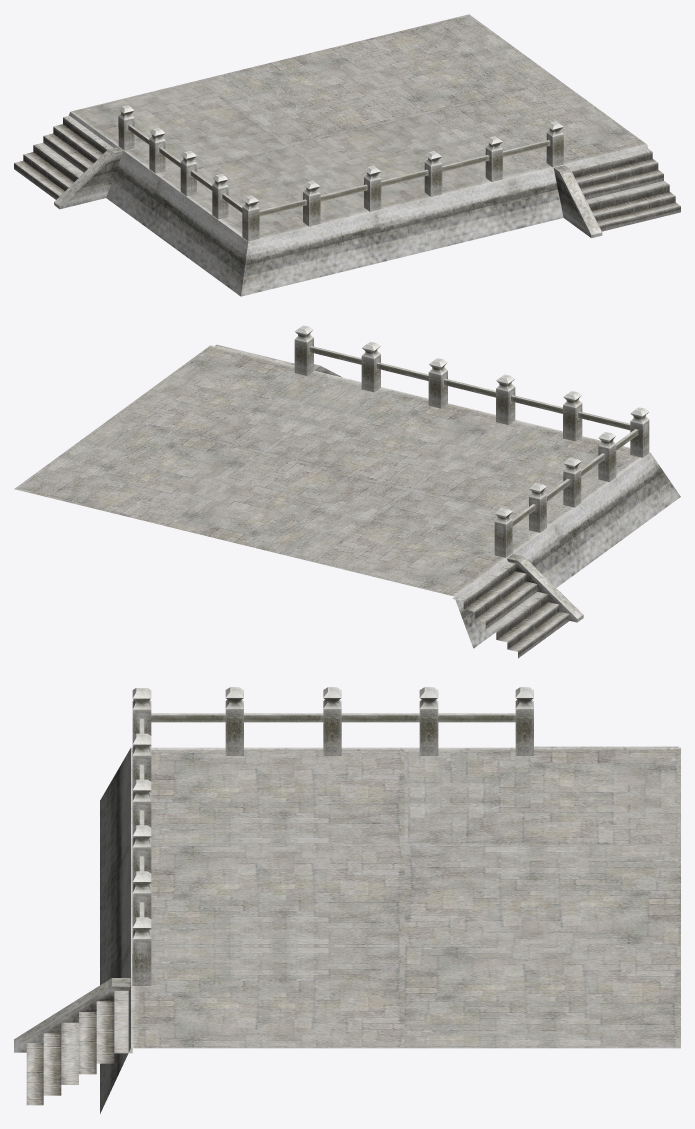
File: snow_tower01_01.glb
3 views of the same model, one above another, from view 1: azimuth 30°, elevation 25°; view 2: azimuth 150°, elevation 25°; view 3: azimuth 270°, elevation 25° (orthographic). The views are drawn at different scales.
Parts seen in each view (by area): view 1: snow_tower02_04; view 2: snow_tower02_04; view 3: snow_tower02_04.
Boxes of the visible parts, x1=… form: snow_tower02_04: x1=14, y1=14, x2=680, y2=296; snow_tower02_04: x1=14, y1=325, x2=680, y2=658; snow_tower02_04: x1=14, y1=687, x2=680, y2=1113.
Size of the model in its own units: 42.51 by 7.32 by 34.34.
Materials: 1 (1 with a texture image).
